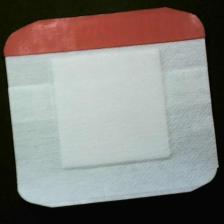Dressing: (4, 8, 222, 210)
Red_T: (2, 7, 217, 63)
